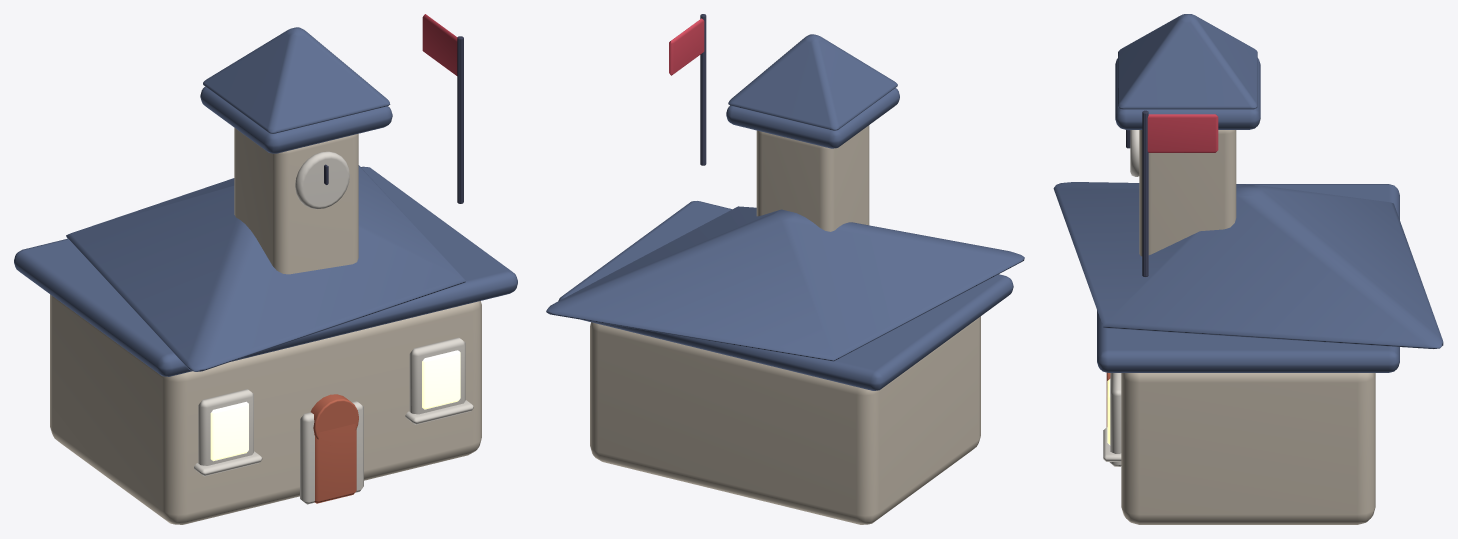
Rendered from corner_audit.glb.
The picture shows the model from 3 angles, left to right: view 1: azimuth 30°, elevation 25°; view 2: azimuth 150°, elevation 25°; view 3: azimuth 270°, elevation 25°; orthographic projection. The views are drawn at different scales.
Parts seen in each view (by area): view 1: Cube; view 2: Cube; view 3: Cube.
Part boxes in pixels (x1,y1,x2,y2): Cube: (14, 14, 517, 524); Cube: (546, 14, 1024, 524); Cube: (1053, 14, 1443, 524).
Size of the model in its own units: 0.68 by 0.8 by 0.6438.
